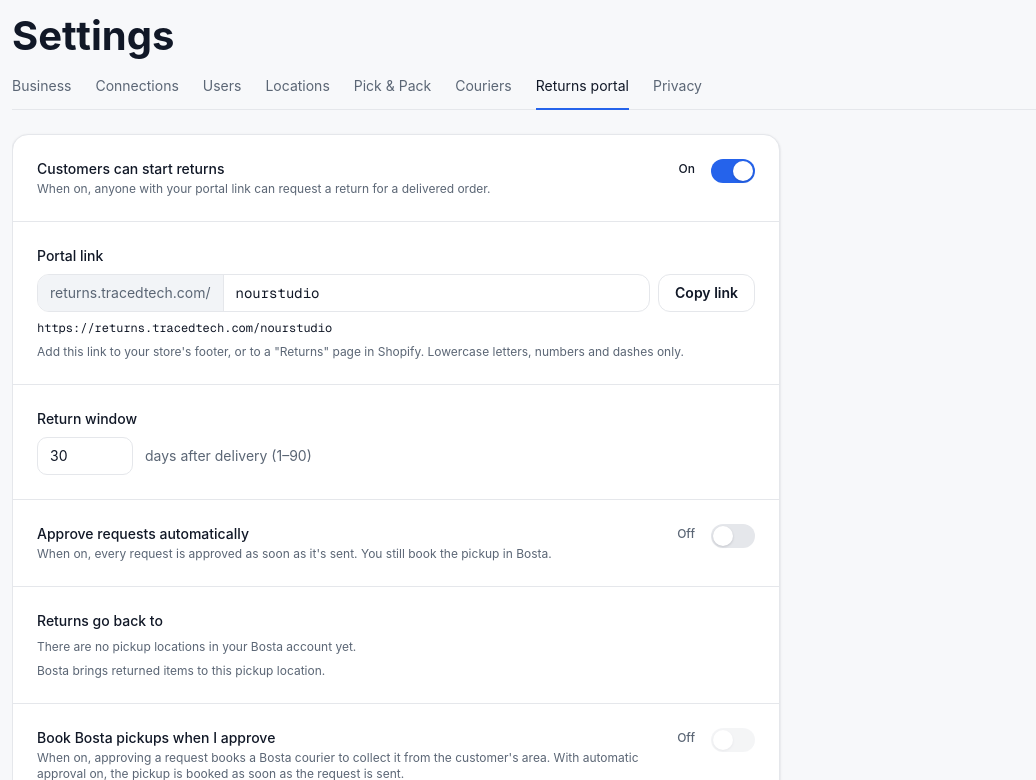
it: Settings → Returns portal › Copy link copies the full https link
Expected: the field showing "nourstudio" is shown, [224,275,649,311]
Click the button "Copy link".
click(706, 293)  # box [658,274,755,312]
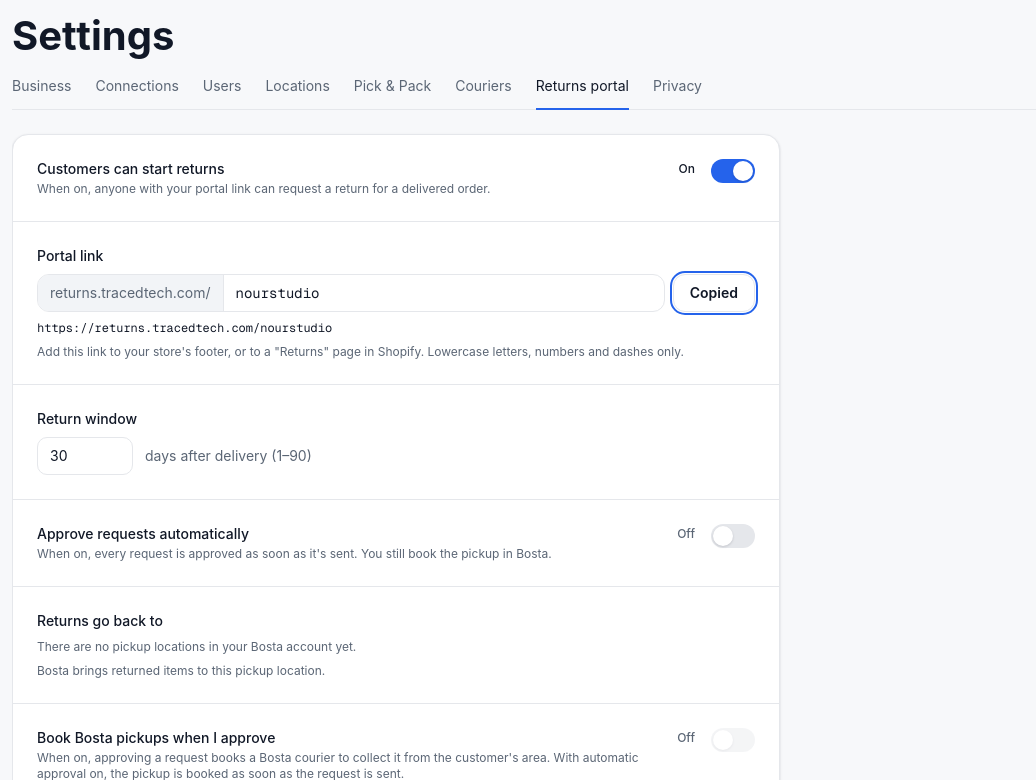
Expected: the button "Copied" is shown, [673,274,755,312]
